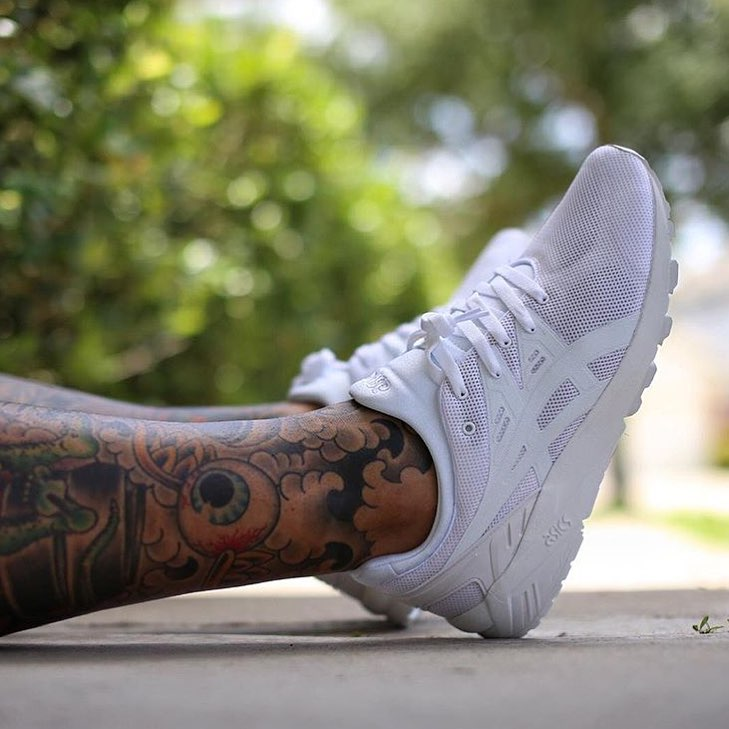sneaker: (307, 122, 696, 654)
